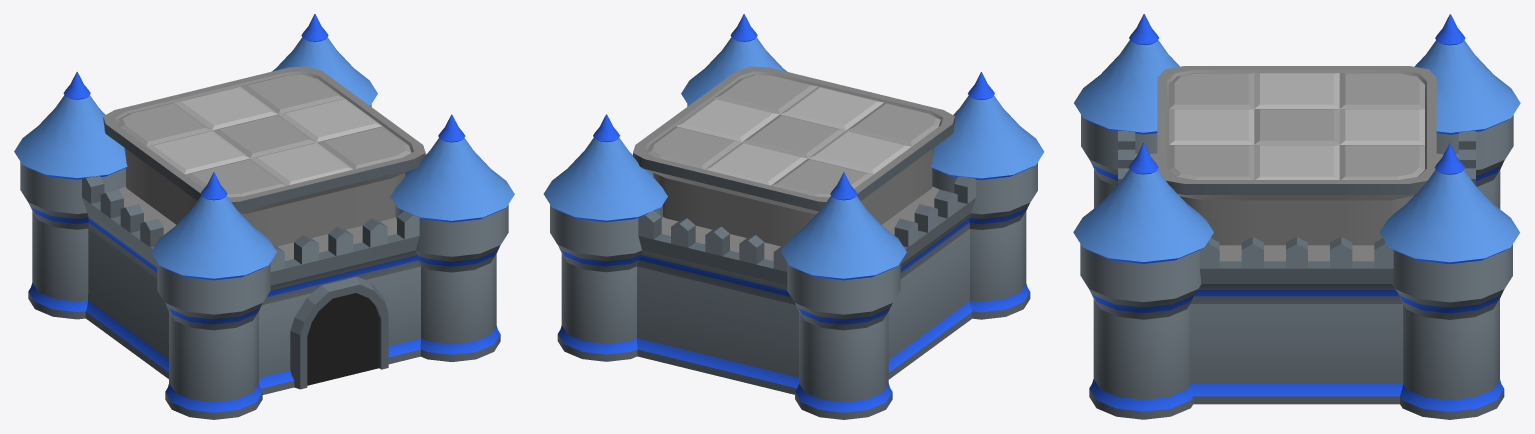
The model's file is castle_B.fbx.
3 views of the same model, side by side, from view 1: azimuth 30°, elevation 25°; view 2: azimuth 150°, elevation 25°; view 3: azimuth 270°, elevation 25° (orthographic). The views are drawn at different scales.
Visible parts, largest first — view 1: castle_B; view 2: castle_B; view 3: castle_B.
Part boxes in pixels (x1,y1,x2,y2): castle_B: (14,14,514,419); castle_B: (543,14,1044,419); castle_B: (1073,14,1520,419).
Bounding box in the file's own units: 15.75 × 9.83 × 15.75.
